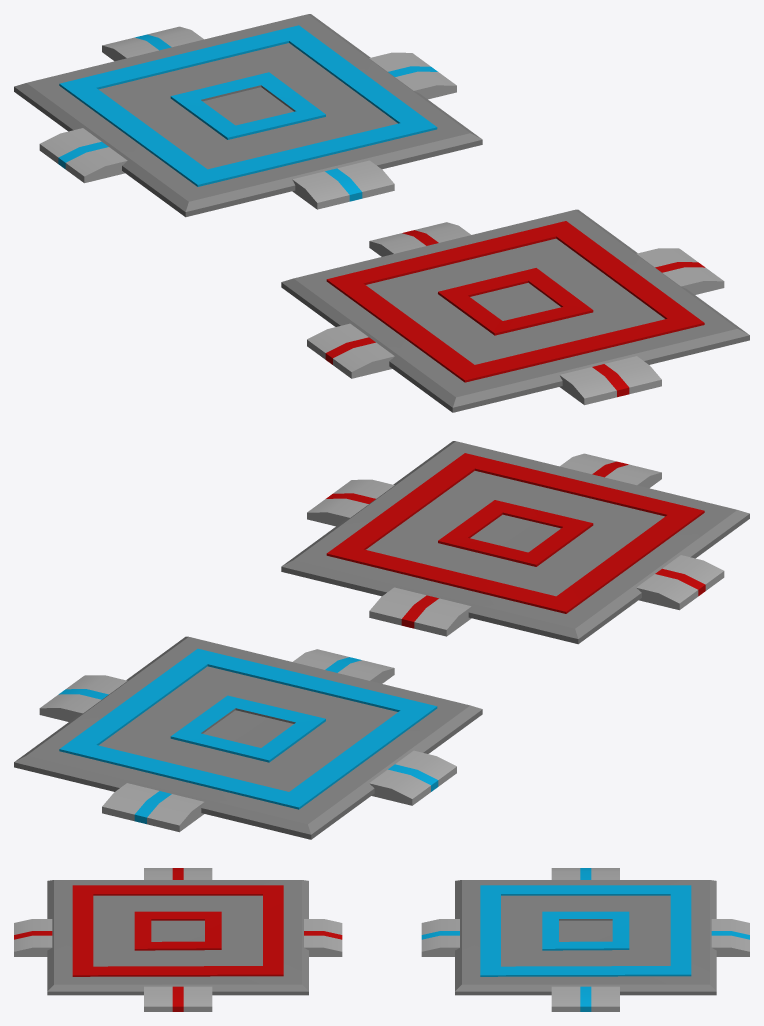
Rendered from pade_enemies.fbx.
The picture shows the model from 3 angles, top to bottom: view 1: azimuth 30°, elevation 25°; view 2: azimuth 150°, elevation 25°; view 3: azimuth 270°, elevation 25°; orthographic projection. The views are drawn at different scales.
Visible parts, largest first — view 1: pCube7, pCube6; view 2: pCube6, pCube7; view 3: pCube6, pCube7.
Boxes of the visible parts, <box> form: pCube7: <box>281,209,749,412</box>; pCube6: <box>14,14,482,217</box>; pCube6: <box>14,636,482,839</box>; pCube7: <box>281,441,749,644</box>; pCube6: <box>421,868,749,1011</box>; pCube7: <box>14,868,342,1011</box>.
Size of the model in its own units: 0.1462 by 0.00617 by 0.3278.
